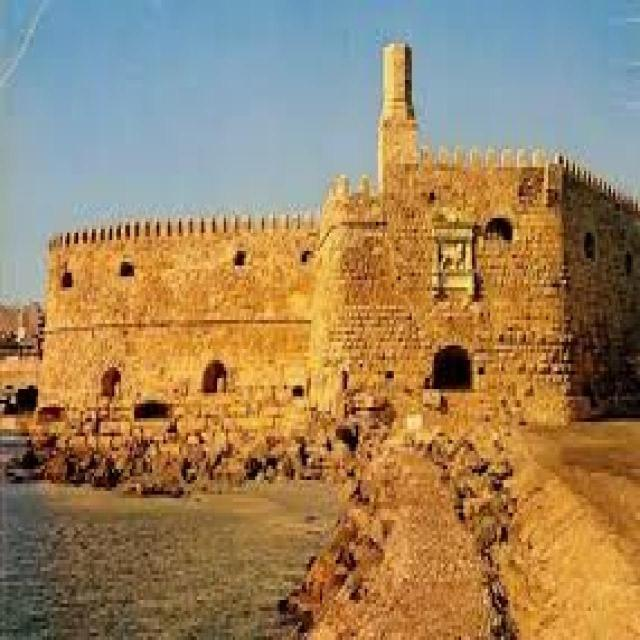Kules: (37, 40, 640, 428)
